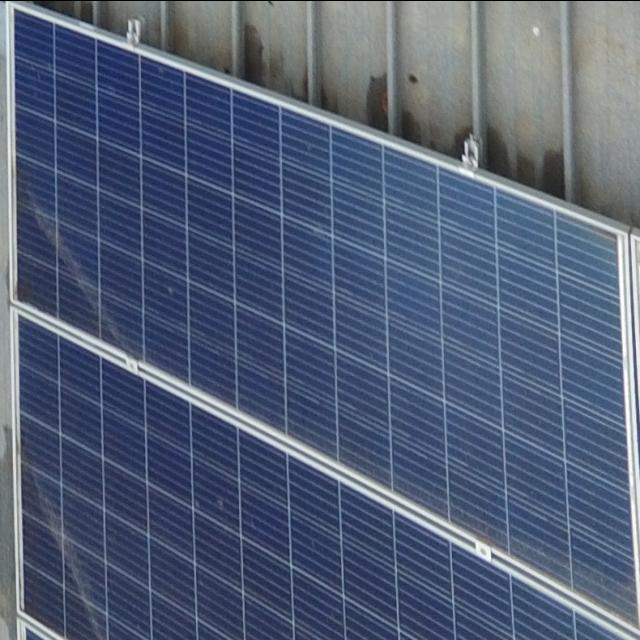Dust: (413, 477, 640, 640), (12, 413, 96, 640), (7, 186, 119, 334)
